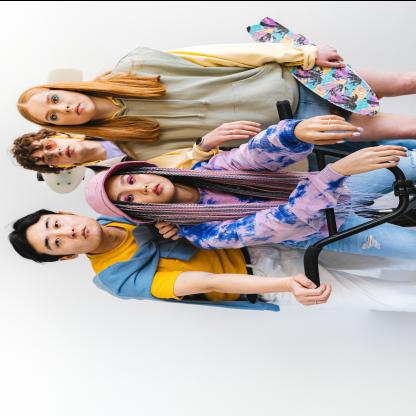Eye: (127, 174, 137, 186), (124, 192, 135, 202), (50, 93, 60, 104), (52, 236, 63, 246), (52, 218, 62, 228), (43, 141, 54, 150), (48, 112, 58, 120), (45, 156, 55, 161)
Mouth: (149, 182, 164, 196), (62, 144, 74, 158), (78, 225, 90, 239), (72, 103, 84, 115)
Nose: (60, 226, 76, 238), (132, 184, 148, 194), (55, 104, 71, 114), (48, 147, 62, 156)
